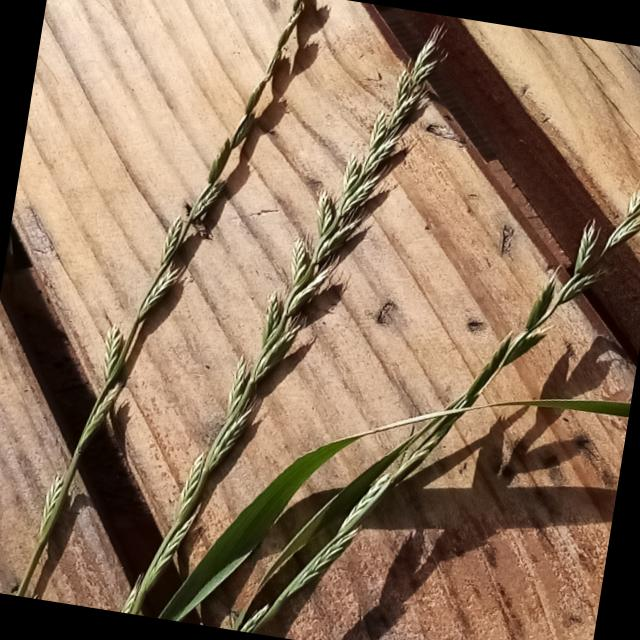Lolium: (242, 119, 640, 640), (142, 3, 456, 620), (36, 0, 323, 568)
